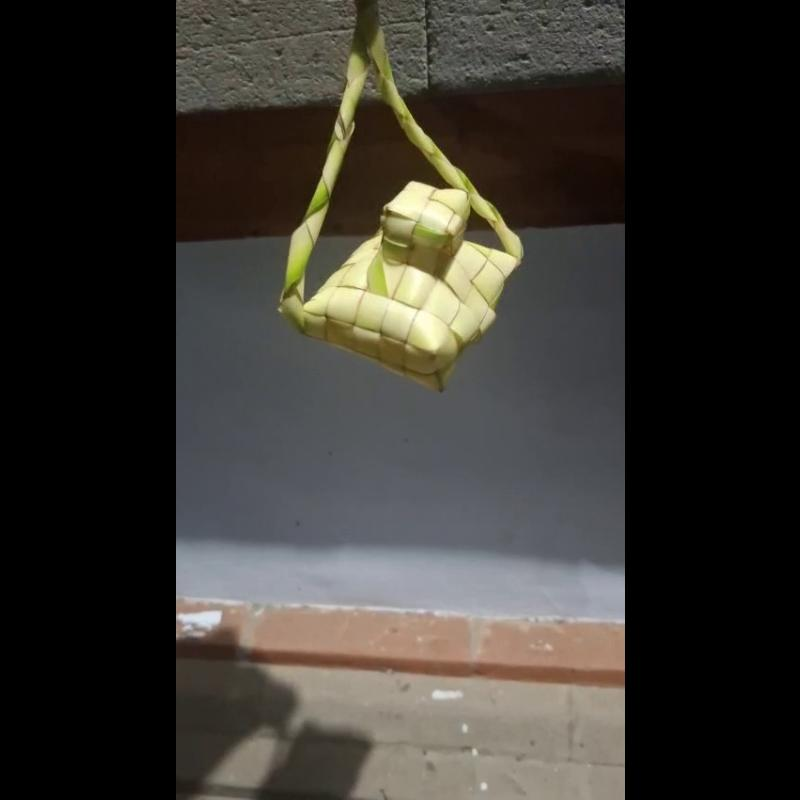Tipat Gong: (277, 0, 527, 399)
